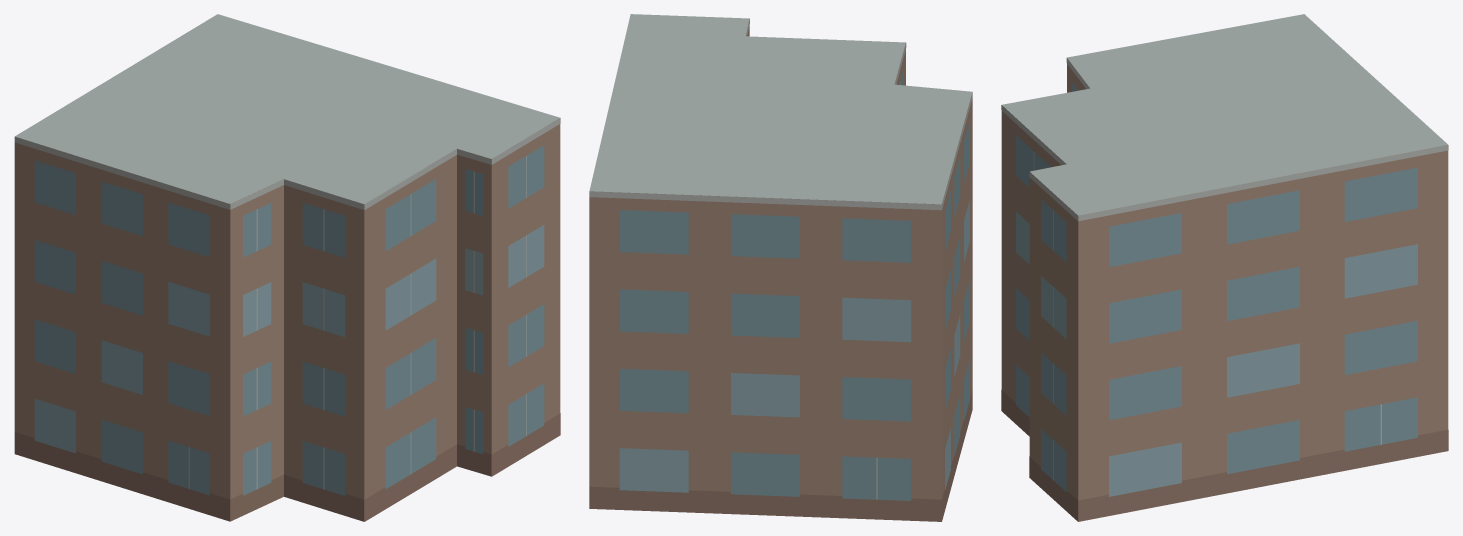
File: survey-upis-32974216.glb
3 views of the same model, side by side, from view 1: azimuth 30°, elevation 25°; view 2: azimuth 150°, elevation 25°; view 3: azimuth 270°, elevation 25° (orthographic). The views are drawn at different scales.
Parts seen in each view (by area): view 1: survey-upis-32974216.tmp; view 2: survey-upis-32974216.tmp; view 3: survey-upis-32974216.tmp.
Part boxes in pixels (x1,y1,x2,y2): survey-upis-32974216.tmp: (14,14,560,521); survey-upis-32974216.tmp: (589,14,972,521); survey-upis-32974216.tmp: (1001,14,1448,521).
Size of the model in its own units: 18.65 by 13.2 by 17.47.
